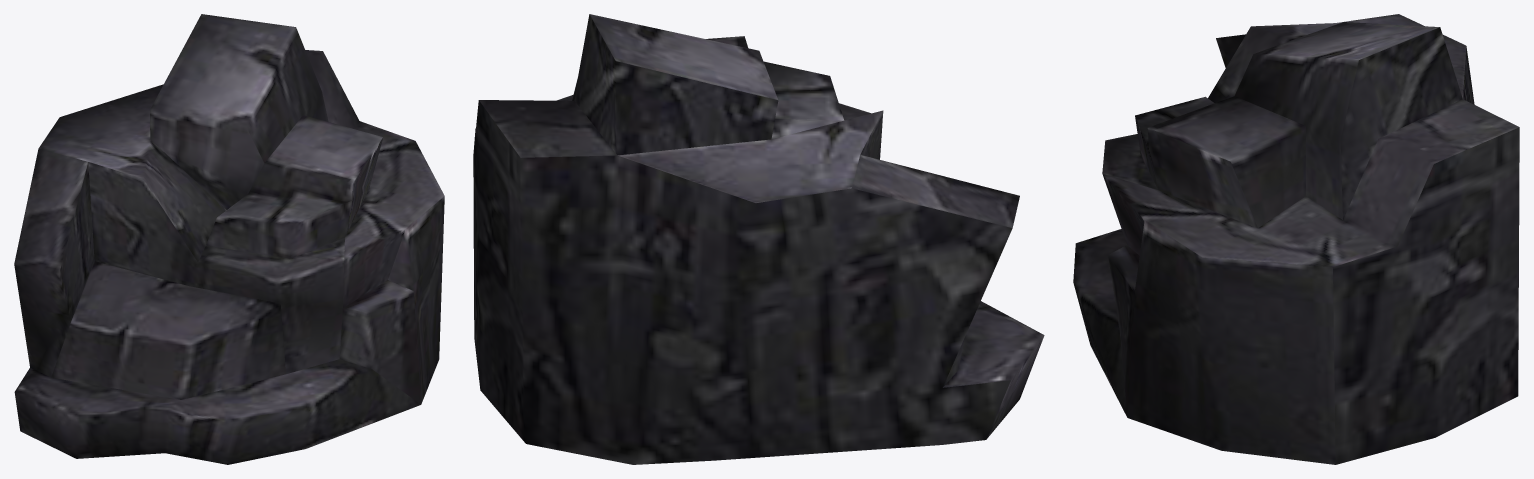
Rendered from Treasure_Stone_01.FBX.
3 renders of one model, left to right at view 1: azimuth 30°, elevation 25°; view 2: azimuth 150°, elevation 25°; view 3: azimuth 270°, elevation 25°, orthographic. The views are drawn at different scales.
Visible parts, largest first — view 1: Treasure_Stone_01; view 2: Treasure_Stone_01; view 3: Treasure_Stone_01.
Boxes of the visible parts, x1,y1,x2,y2 form: Treasure_Stone_01: (14,14,444,464); Treasure_Stone_01: (473,14,1044,464); Treasure_Stone_01: (1073,14,1519,464).
Bounding box in the file's own units: 7.13 × 4.91 × 5.73.
